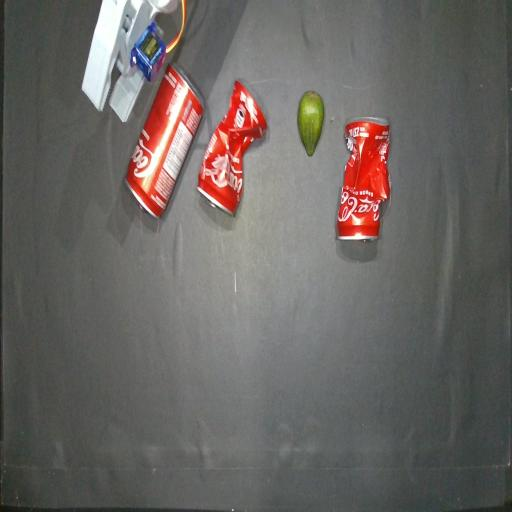higo: (297, 91, 324, 155)
lata: (126, 65, 203, 216)
lata_defectuoso: (197, 81, 267, 216), (337, 118, 390, 240)
